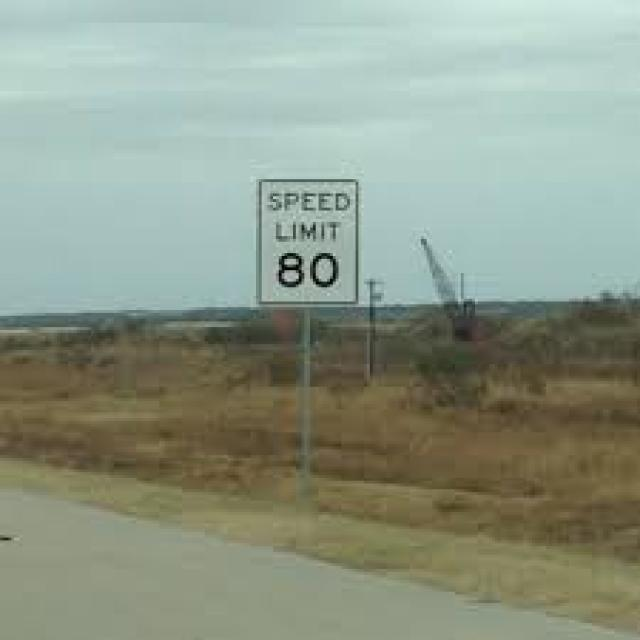speedLimit80: (257, 178, 357, 306)
